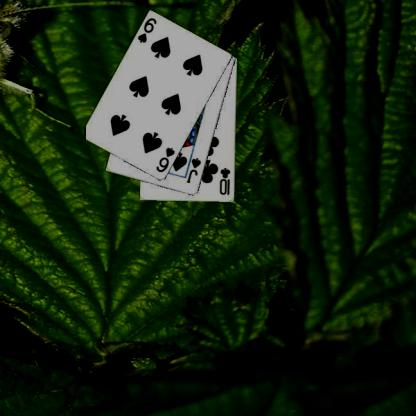10C: (217, 165, 232, 196)
6S: (153, 145, 176, 174), (135, 15, 158, 44)
JS: (184, 156, 202, 184)
